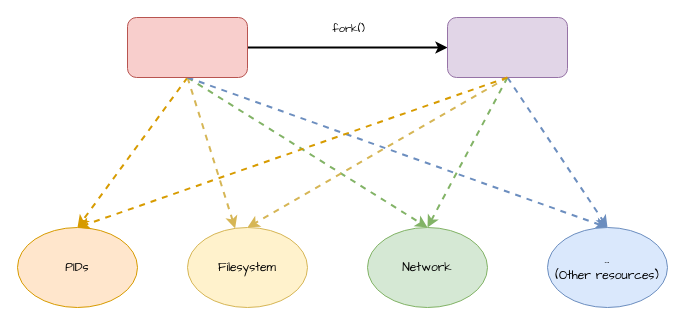
Image size: 685x325. Some labels were removed from this diagram. The shapes that lost their labels are listed below. From the top down, each one's centre as x and y in pixels, then its label:
point 187,47: Container Agent
point 507,47: Container
